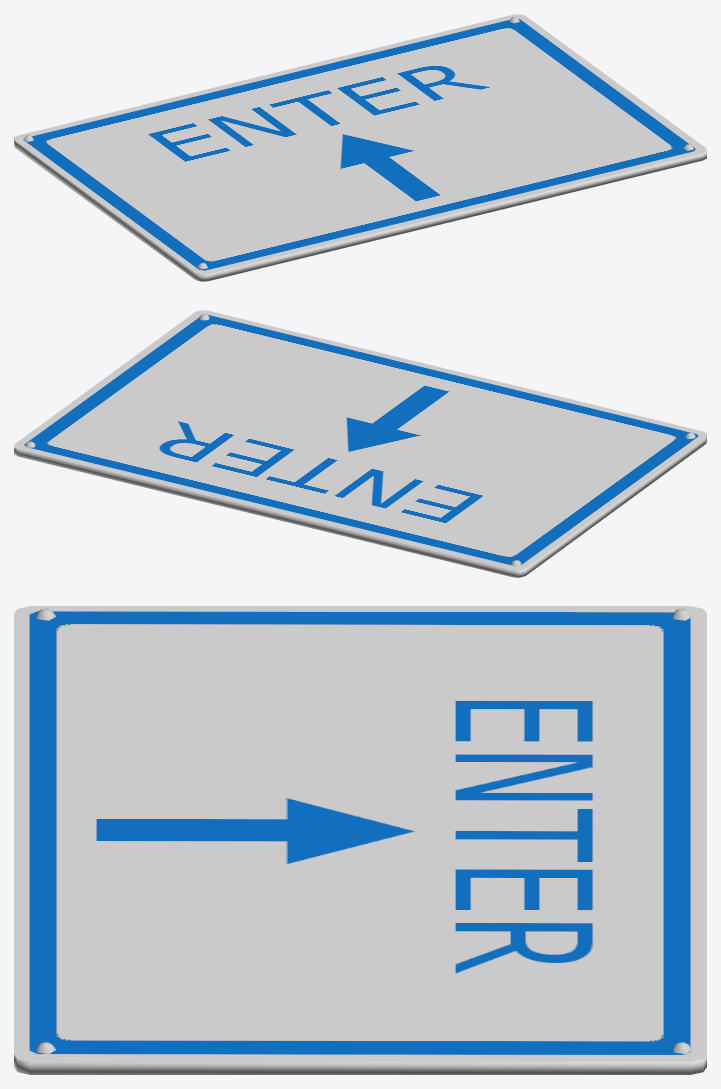
The model's file is Enter sign.fbx.
3 views of the same model, one above another, from view 1: azimuth 30°, elevation 25°; view 2: azimuth 150°, elevation 25°; view 3: azimuth 270°, elevation 25° (orthographic). The views are drawn at different scales.
Visible parts, largest first — view 1: Enter sign; view 2: Enter sign; view 3: Enter sign.
Part boxes in pixels (box(x1,y1,x2,y2)): Enter sign: box(14, 14, 706, 281); Enter sign: box(14, 310, 706, 577); Enter sign: box(14, 606, 706, 1074).
Size of the model in its own units: 0.8 by 0.0166 by 0.5142.
